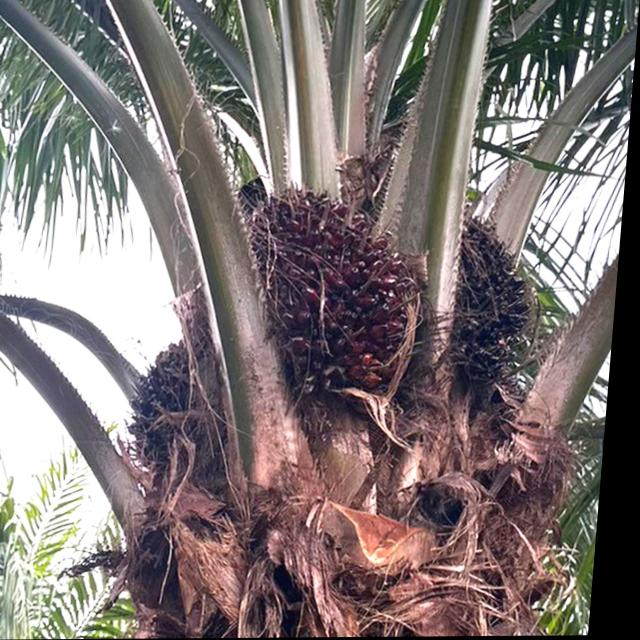ripe: (232, 169, 445, 400)
